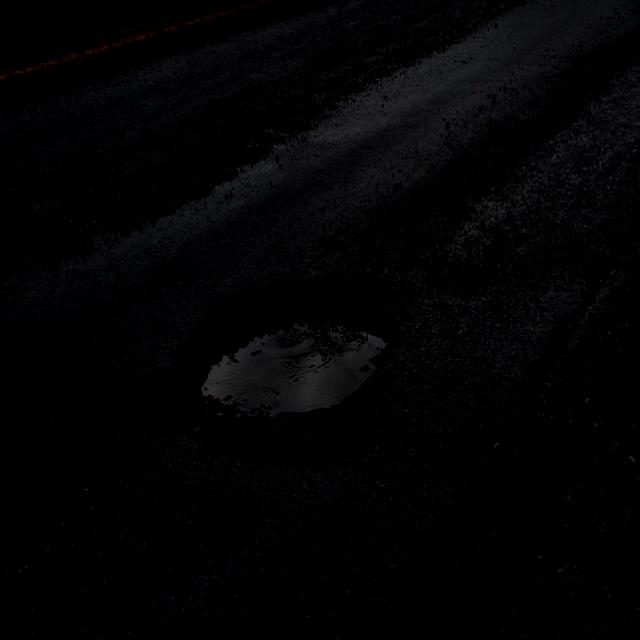Pothole: (158, 276, 402, 428)
